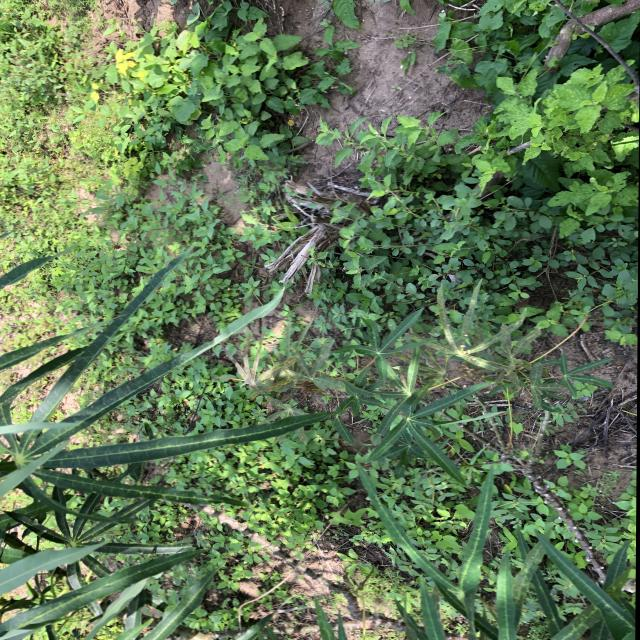Maleza: (445, 13, 639, 345), (0, 0, 217, 256), (90, 4, 330, 177), (300, 116, 486, 307)
Mosca: (363, 335, 379, 351)
